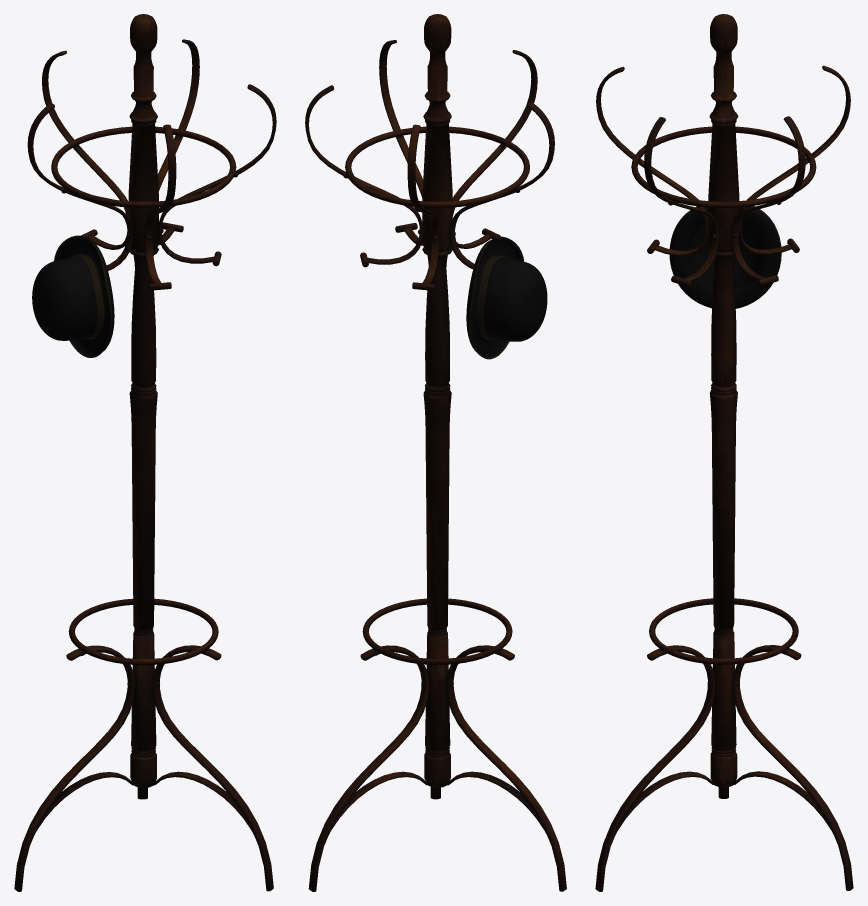
File: coat_rack_bowler_hat.glb
3 views of the same model, side by side, from view 1: azimuth 30°, elevation 25°; view 2: azimuth 150°, elevation 25°; view 3: azimuth 270°, elevation 25° (orthographic).
Parts seen in each view (by area): view 1: Object_4, Object_2, Object_3; view 2: Object_4, Object_2, Object_3; view 3: Object_4, Object_2.
Boxes of the visible parts, x1=… form: Object_4: x1=14, y1=14, x2=276, y2=891; Object_2: x1=32, y1=237, x2=114, y2=356; Object_3: x1=54, y1=235, x2=112, y2=357; Object_4: x1=305, y1=14, x2=566, y2=891; Object_2: x1=466, y1=238, x2=547, y2=357; Object_3: x1=468, y1=236, x2=524, y2=359; Object_4: x1=595, y1=14, x2=853, y2=891; Object_2: x1=670, y1=206, x2=780, y2=308.
Size of the model in its own units: 2.7 by 9.77 by 2.71.
Materials: 3 (2 with a texture image).
